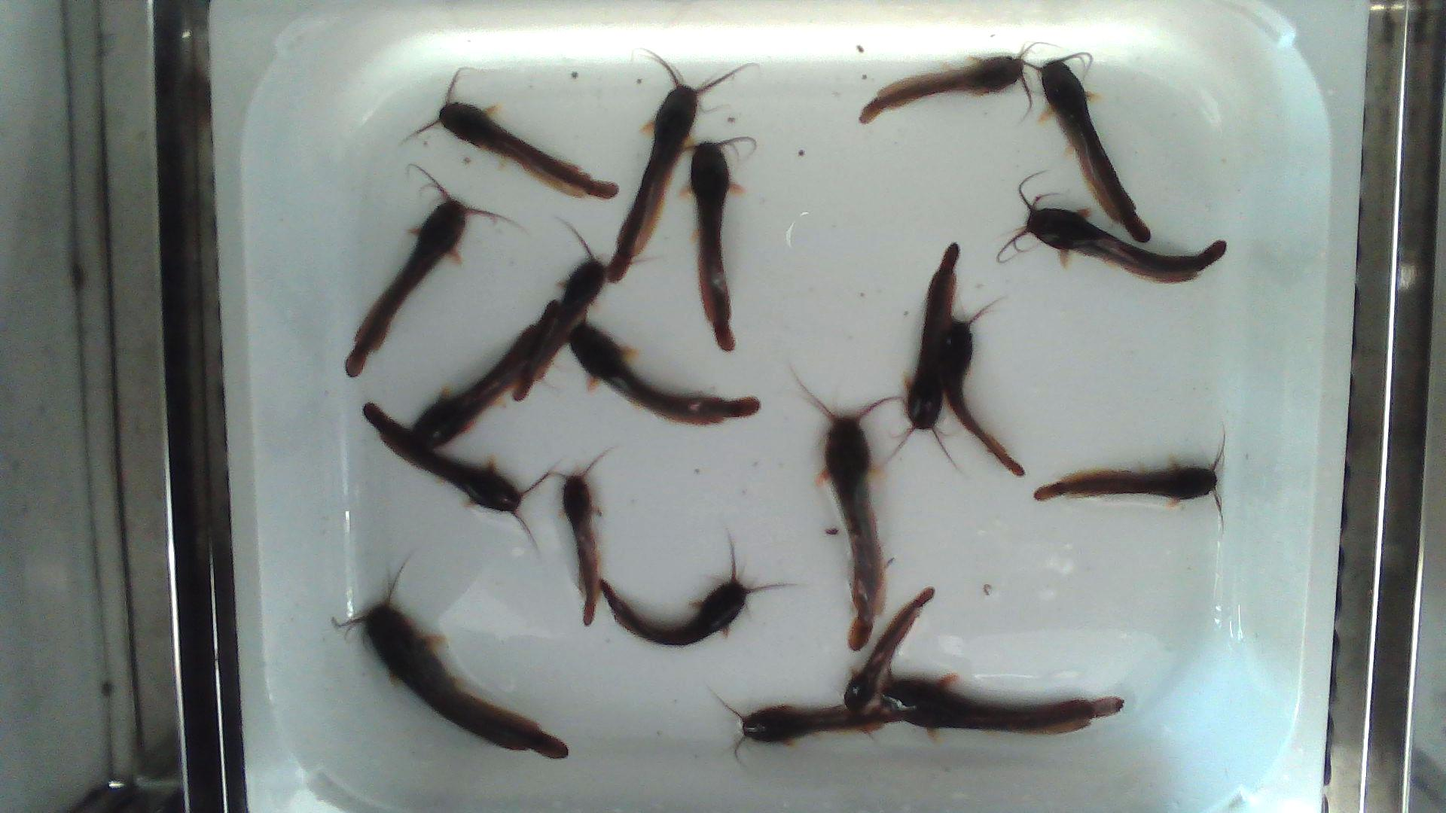lele: (362, 601, 568, 758), (563, 475, 752, 645), (346, 198, 469, 376), (414, 297, 558, 443), (1041, 60, 1149, 239), (569, 321, 758, 423), (514, 218, 614, 401), (606, 85, 697, 282), (364, 403, 521, 512), (440, 102, 617, 198), (877, 672, 1124, 740), (884, 242, 959, 461), (939, 301, 1024, 478), (1023, 208, 1226, 282), (825, 411, 885, 650), (844, 589, 934, 716), (861, 56, 1023, 123), (722, 703, 906, 760), (691, 142, 734, 350), (1034, 466, 1216, 500), (563, 473, 601, 624)
